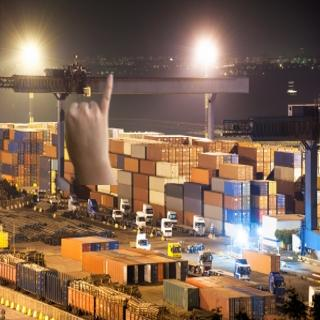FINE: (62, 72, 121, 172)
